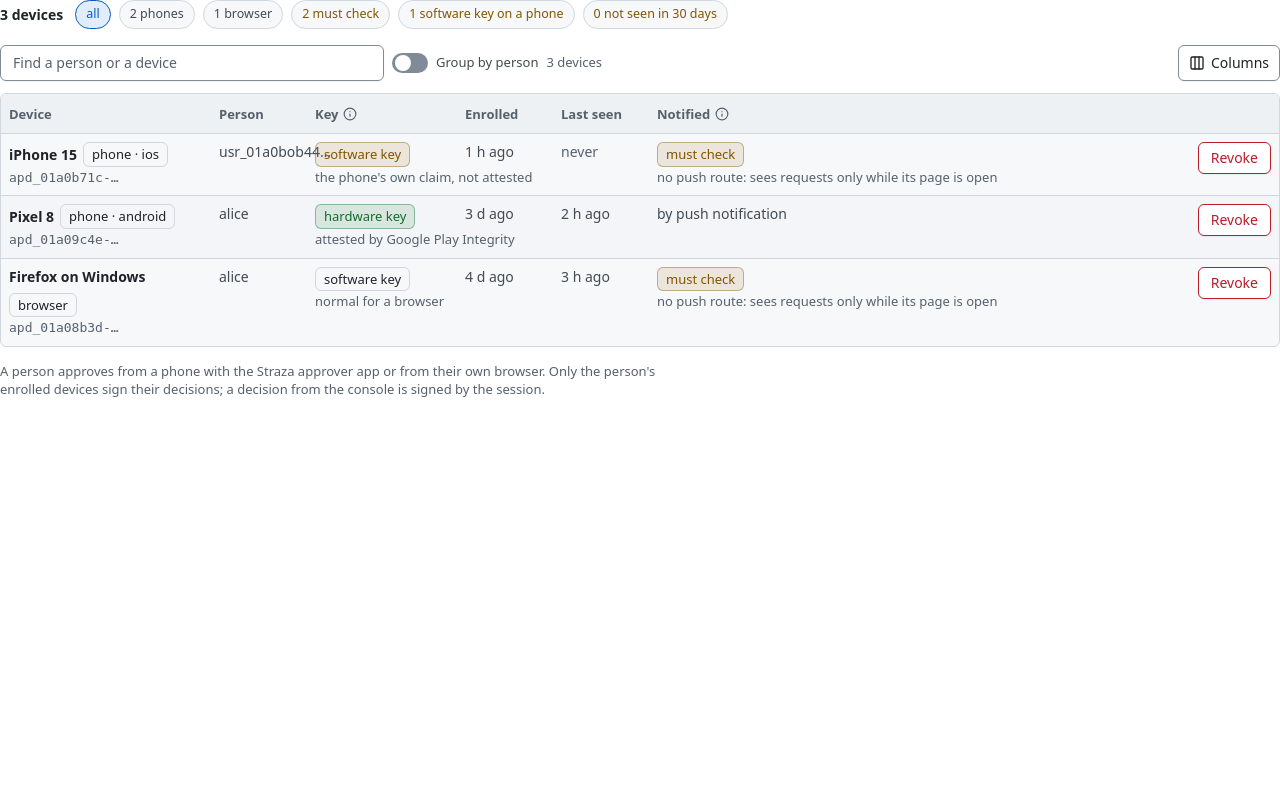
Test: the approver devices tab › quotes a refused revoke inside the dialog and keeps the button
The image size is (1280, 800).
Click the button with aria-label "Revoke Pixel 8" at {"x": 1234, "y": 220}, box [1198,204,1271,236]
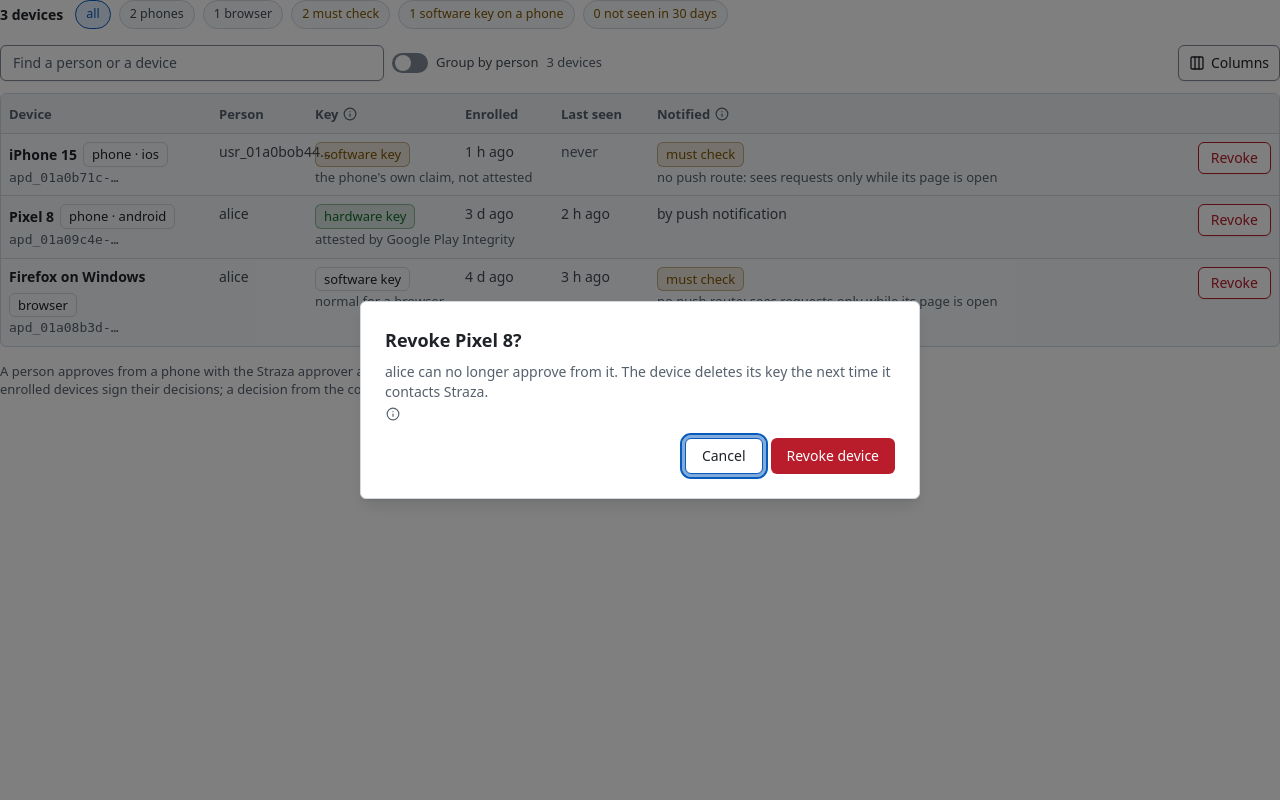
Click the button "Revoke device" at {"x": 833, "y": 456}, box [770,438,895,474]
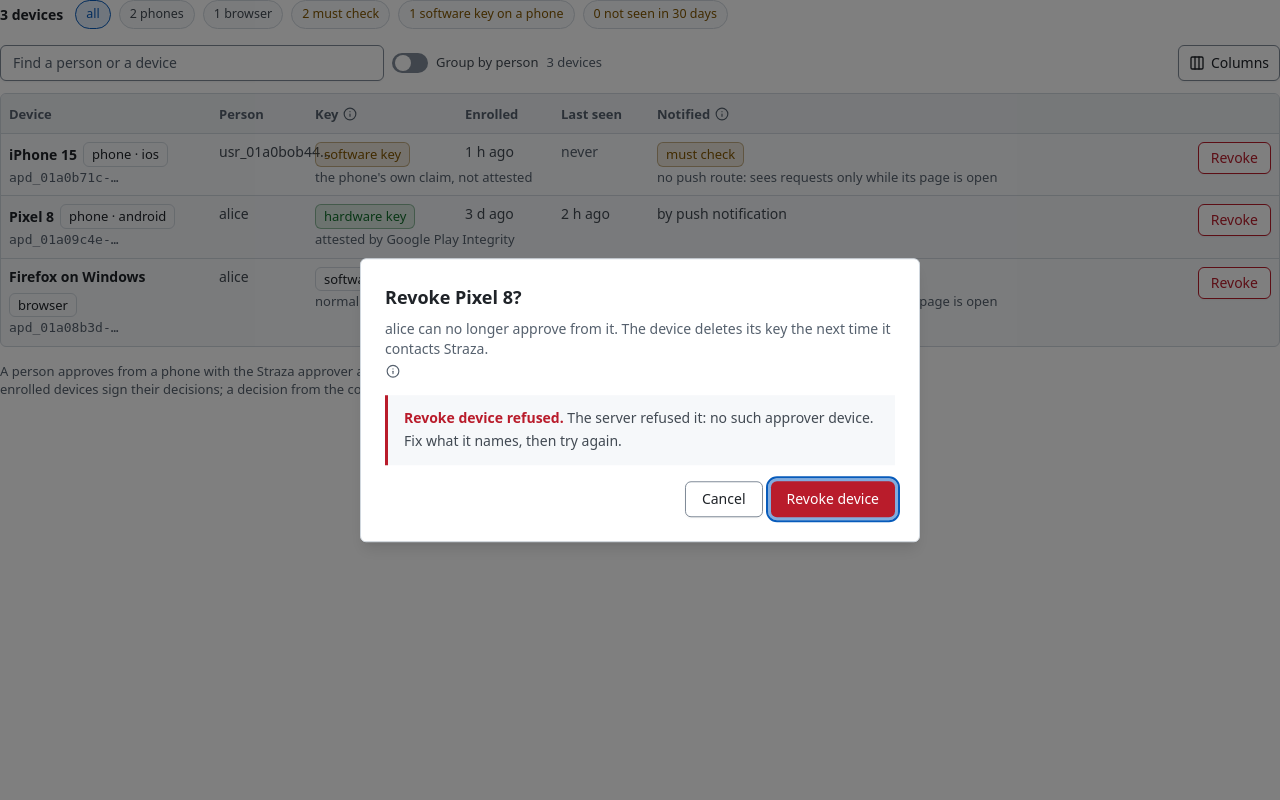
Now the button "Revoke device" is shown, box [770,481,895,517]
Now the message shows "no such approver device", box [404,408,874,450]
Now the message shows "Fix what it names, then try again.", box [404,408,874,450]
